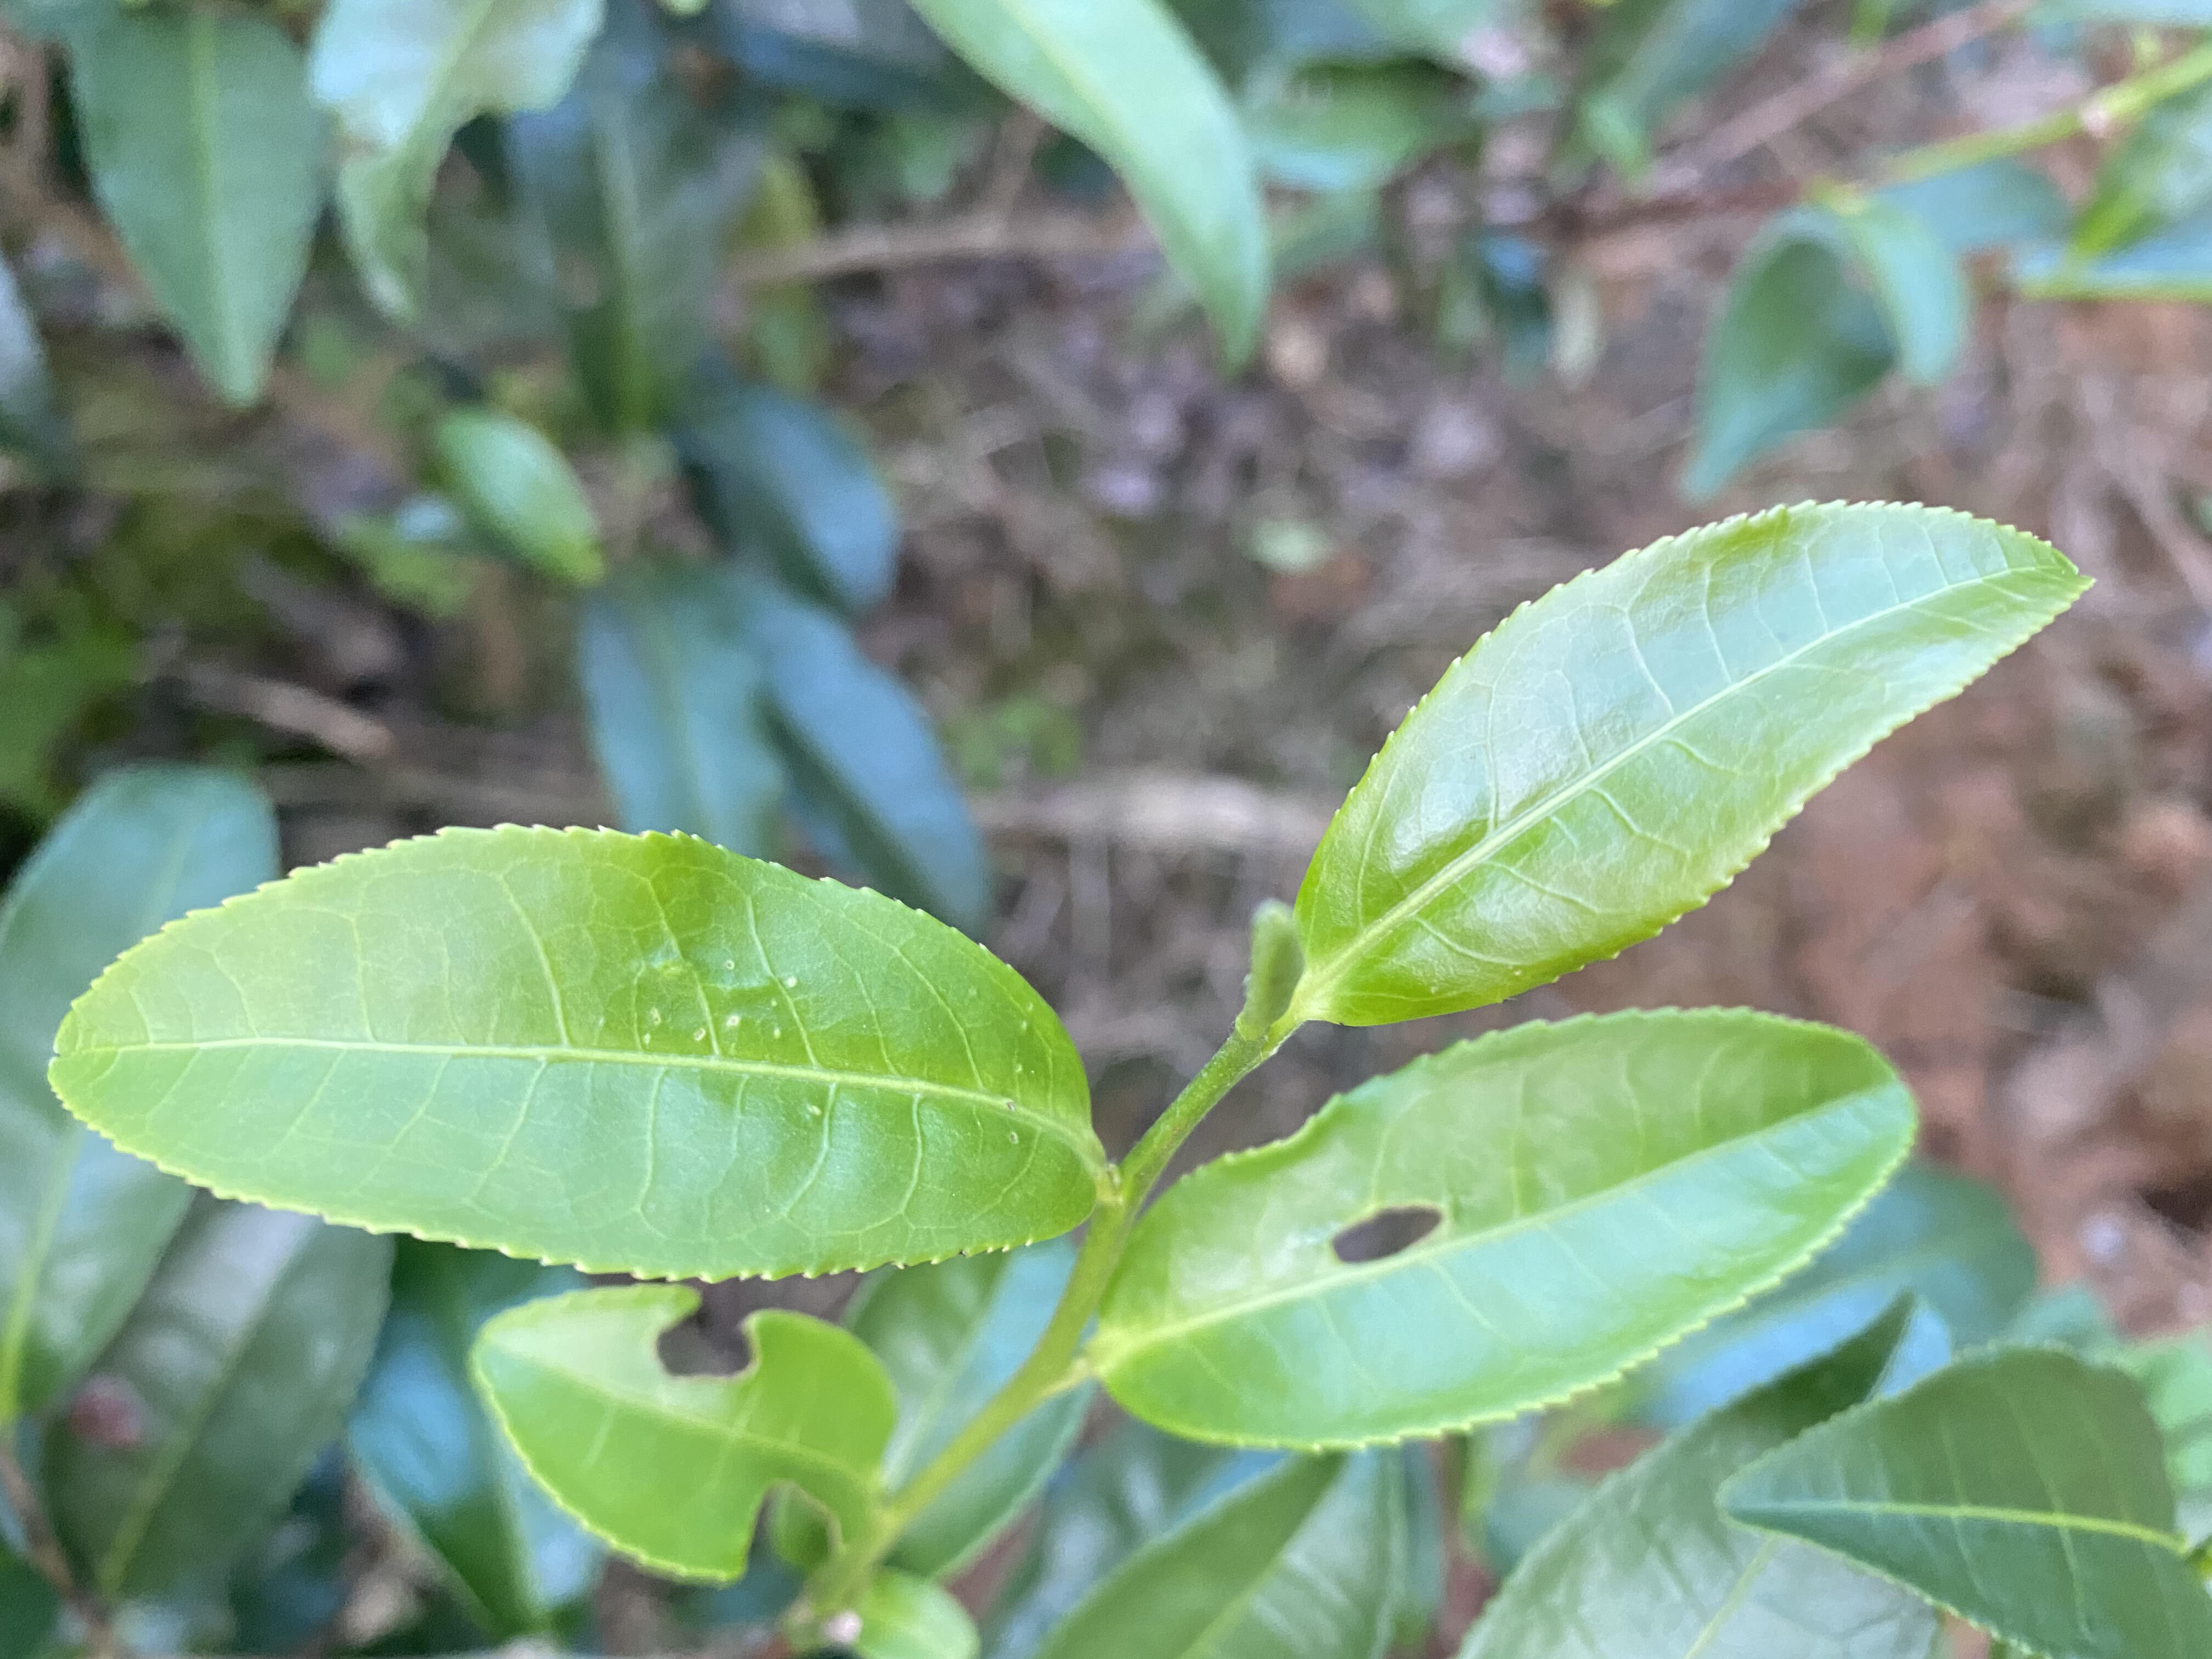chihuo_high: (470, 1284, 899, 1584)
chihuo_low: (1097, 1004, 1919, 1446)
healthy: (44, 821, 1096, 1288), (1287, 502, 2097, 1033)
